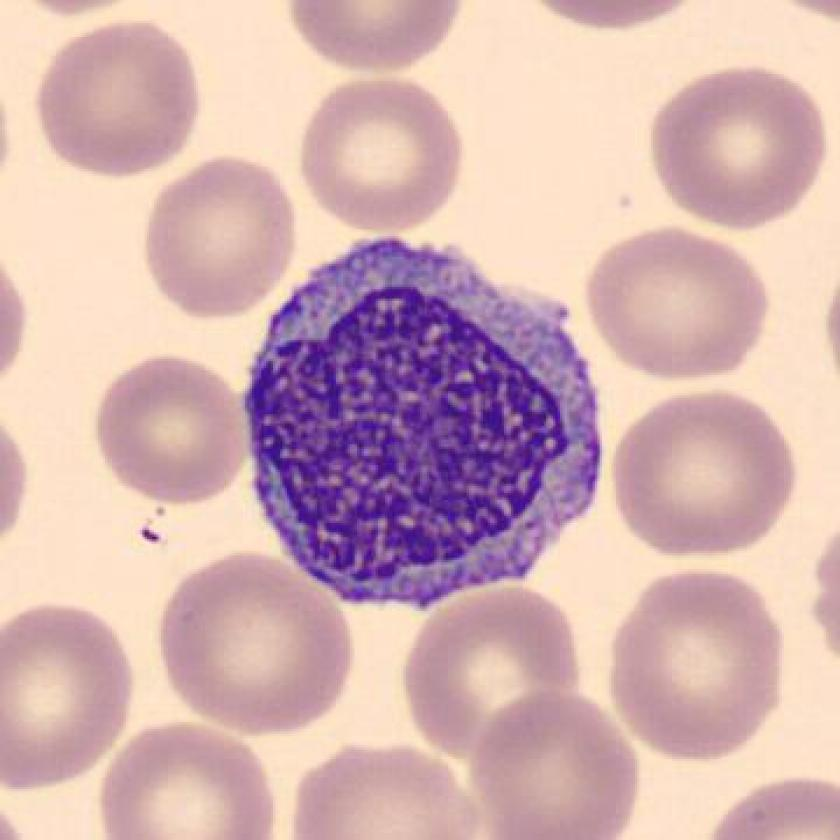monocyte: (232, 225, 624, 626)
